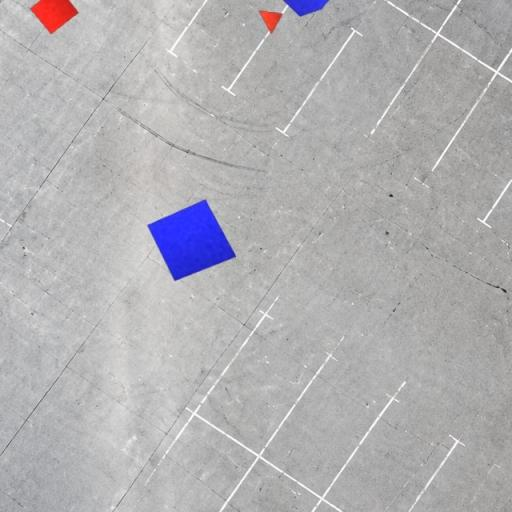BLUE_SQUARE: (146, 198, 238, 282)
RED_SQUARE: (30, 0, 79, 35)
